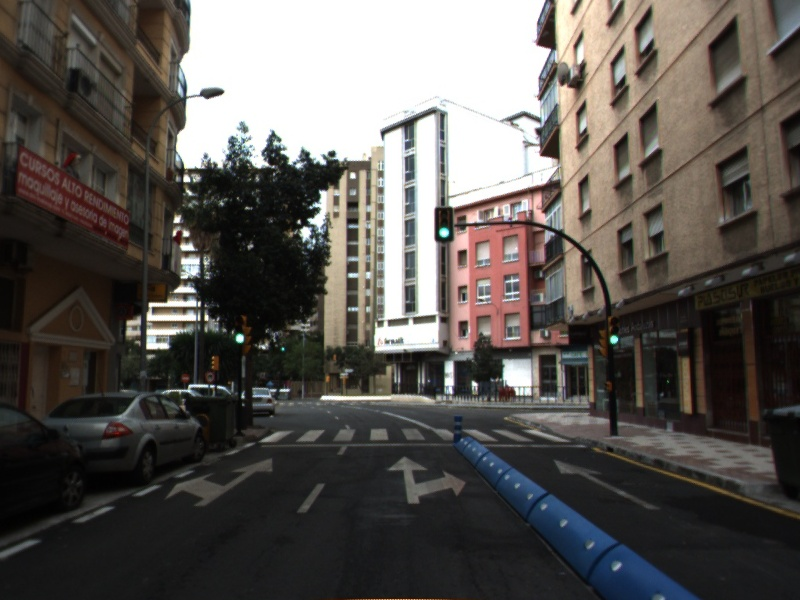STRAIGHT: (551, 458, 664, 512)
STRAIGHT_LEFT: (162, 455, 274, 508)
STRAIGHT_RIGHT: (384, 454, 468, 506)
